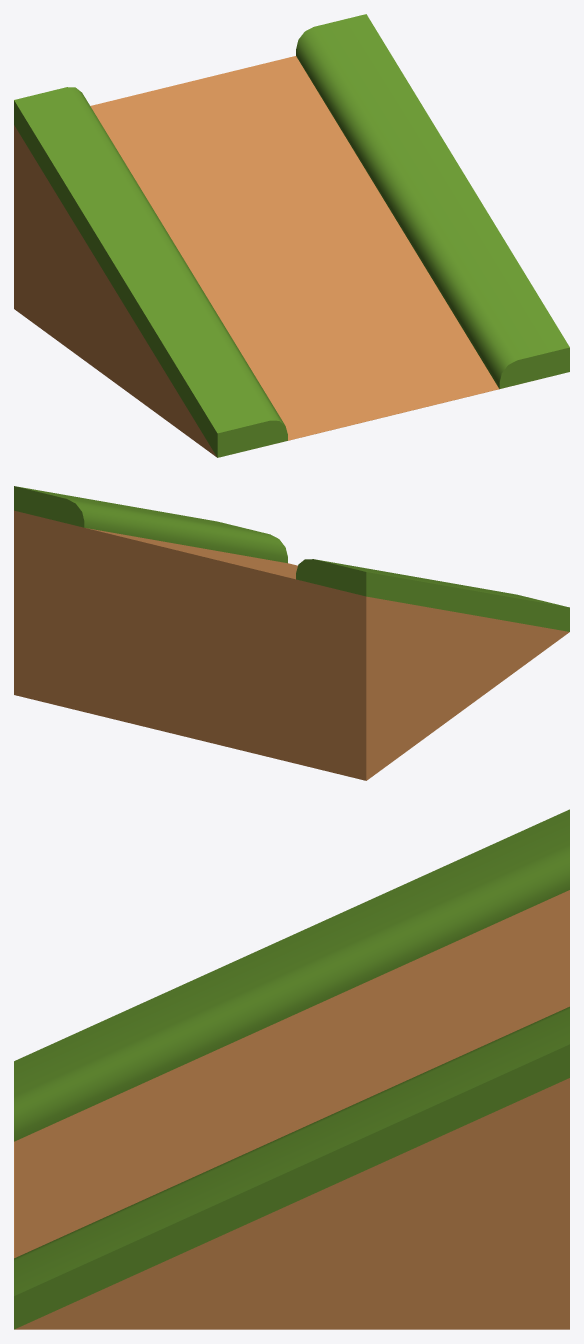
The model's file is TileMiringSoloHalf.fbx.
3 renders of one model, top to bottom at view 1: azimuth 30°, elevation 25°; view 2: azimuth 150°, elevation 25°; view 3: azimuth 270°, elevation 25°, orthographic. The views are drawn at different scales.
Visible parts, largest first — view 1: Tile_Road_Solo; view 2: Tile_Road_Solo; view 3: Tile_Road_Solo.
Part boxes in pixels (bbox=[...]): Tile_Road_Solo: bbox=[14, 14, 569, 457]; Tile_Road_Solo: bbox=[14, 486, 569, 780]; Tile_Road_Solo: bbox=[14, 809, 569, 1329].
Size of the model in its own units: 200 by 113 by 200.
